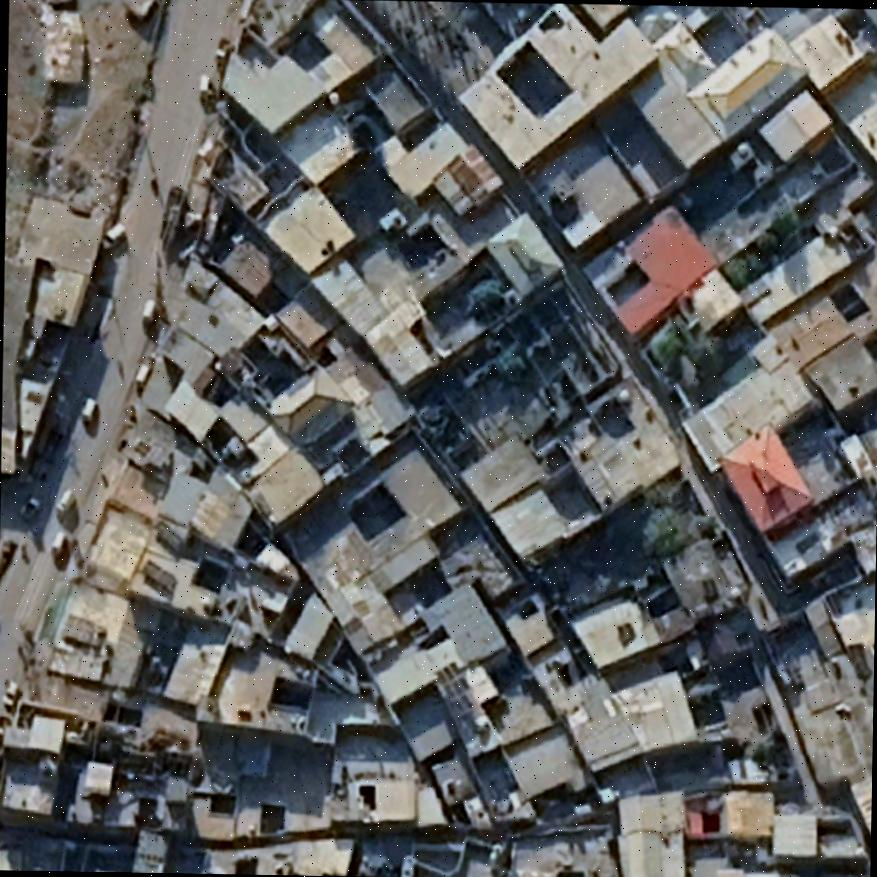Solarpanel: (61, 612, 105, 648), (142, 558, 180, 592), (155, 522, 185, 557)
